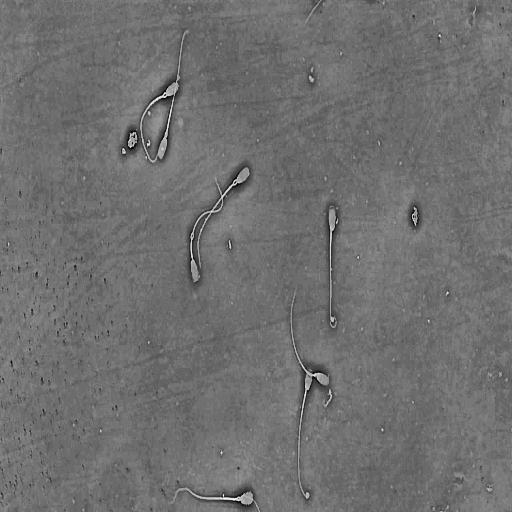coiled-tail: (329, 229, 337, 328)
dirt-particles: (121, 128, 139, 157), (409, 203, 420, 228), (323, 387, 334, 410), (305, 490, 311, 500), (356, 254, 360, 261)
distal-droplet: (191, 233, 194, 239)
normal: (197, 164, 251, 271), (156, 29, 190, 161), (290, 290, 331, 389), (189, 176, 224, 286), (139, 80, 180, 164), (297, 364, 314, 499), (169, 484, 255, 507), (327, 202, 338, 330)
proximal-droplet: (233, 178, 238, 186), (164, 131, 168, 138), (313, 372, 317, 378), (237, 496, 241, 502), (163, 93, 167, 98)
